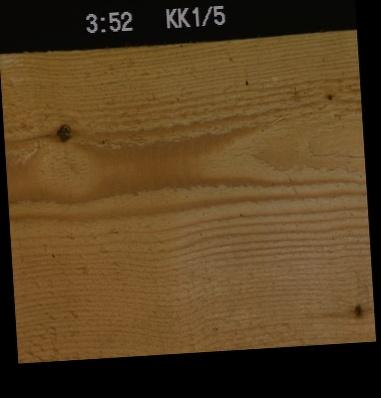dry_knot: (54, 120, 73, 141)
small_knot: (350, 300, 363, 316), (323, 89, 332, 101)
